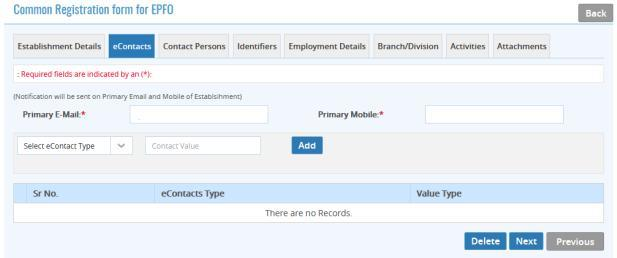button: (284, 34, 371, 60), (15, 35, 106, 59), (372, 35, 444, 59), (158, 35, 230, 58), (495, 35, 552, 58), (547, 232, 606, 253), (109, 35, 156, 60), (235, 36, 283, 59), (447, 35, 490, 59), (465, 232, 508, 251), (579, 5, 614, 25), (510, 233, 544, 252), (292, 138, 324, 156)
dropdown: (19, 137, 134, 156)
input: (131, 106, 270, 125), (427, 107, 565, 124), (146, 137, 262, 157)
label: (18, 107, 90, 124), (318, 109, 388, 121)
table: (14, 184, 606, 223)
